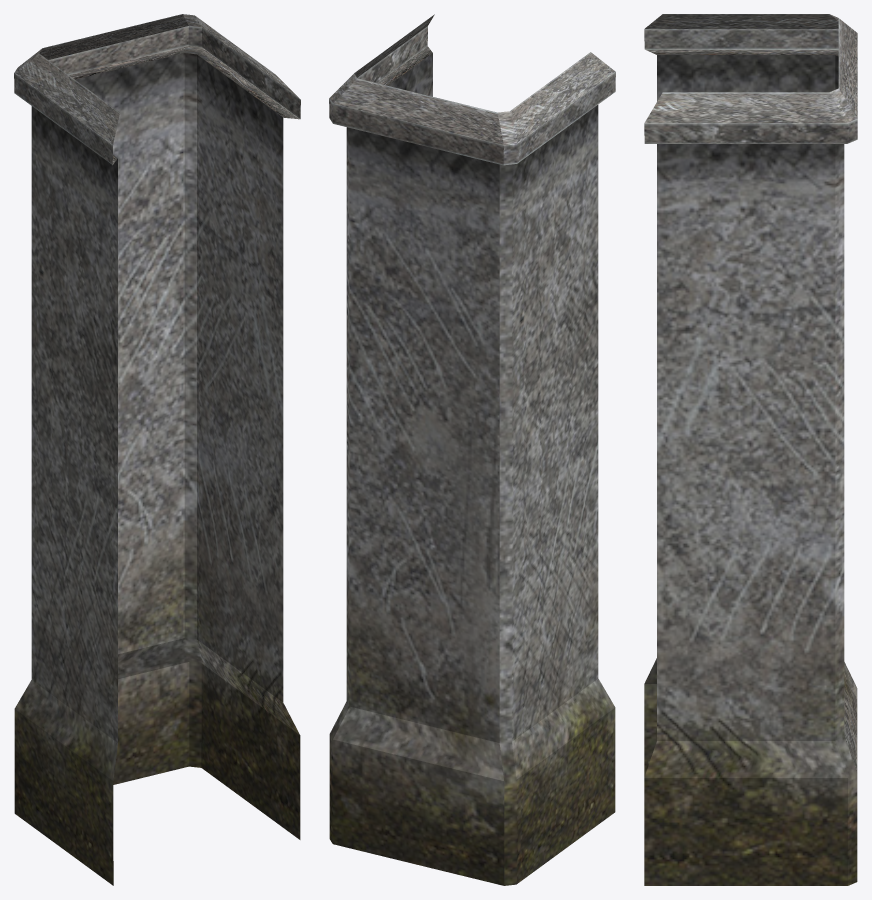
File: wallColumnSample.fbx
3 views of the same model, side by side, from view 1: azimuth 30°, elevation 25°; view 2: azimuth 150°, elevation 25°; view 3: azimuth 270°, elevation 25° (orthographic). The views are drawn at different scales.
Visible parts, largest first — view 1: polySurface1682; view 2: polySurface1682; view 3: polySurface1682.
Part boxes in pixels (x1,y1,x2,y2): polySurface1682: [14, 14, 300, 885]; polySurface1682: [329, 14, 615, 885]; polySurface1682: [644, 14, 857, 885].
Size of the model in its own units: 98.63 by 383 by 94.29.
